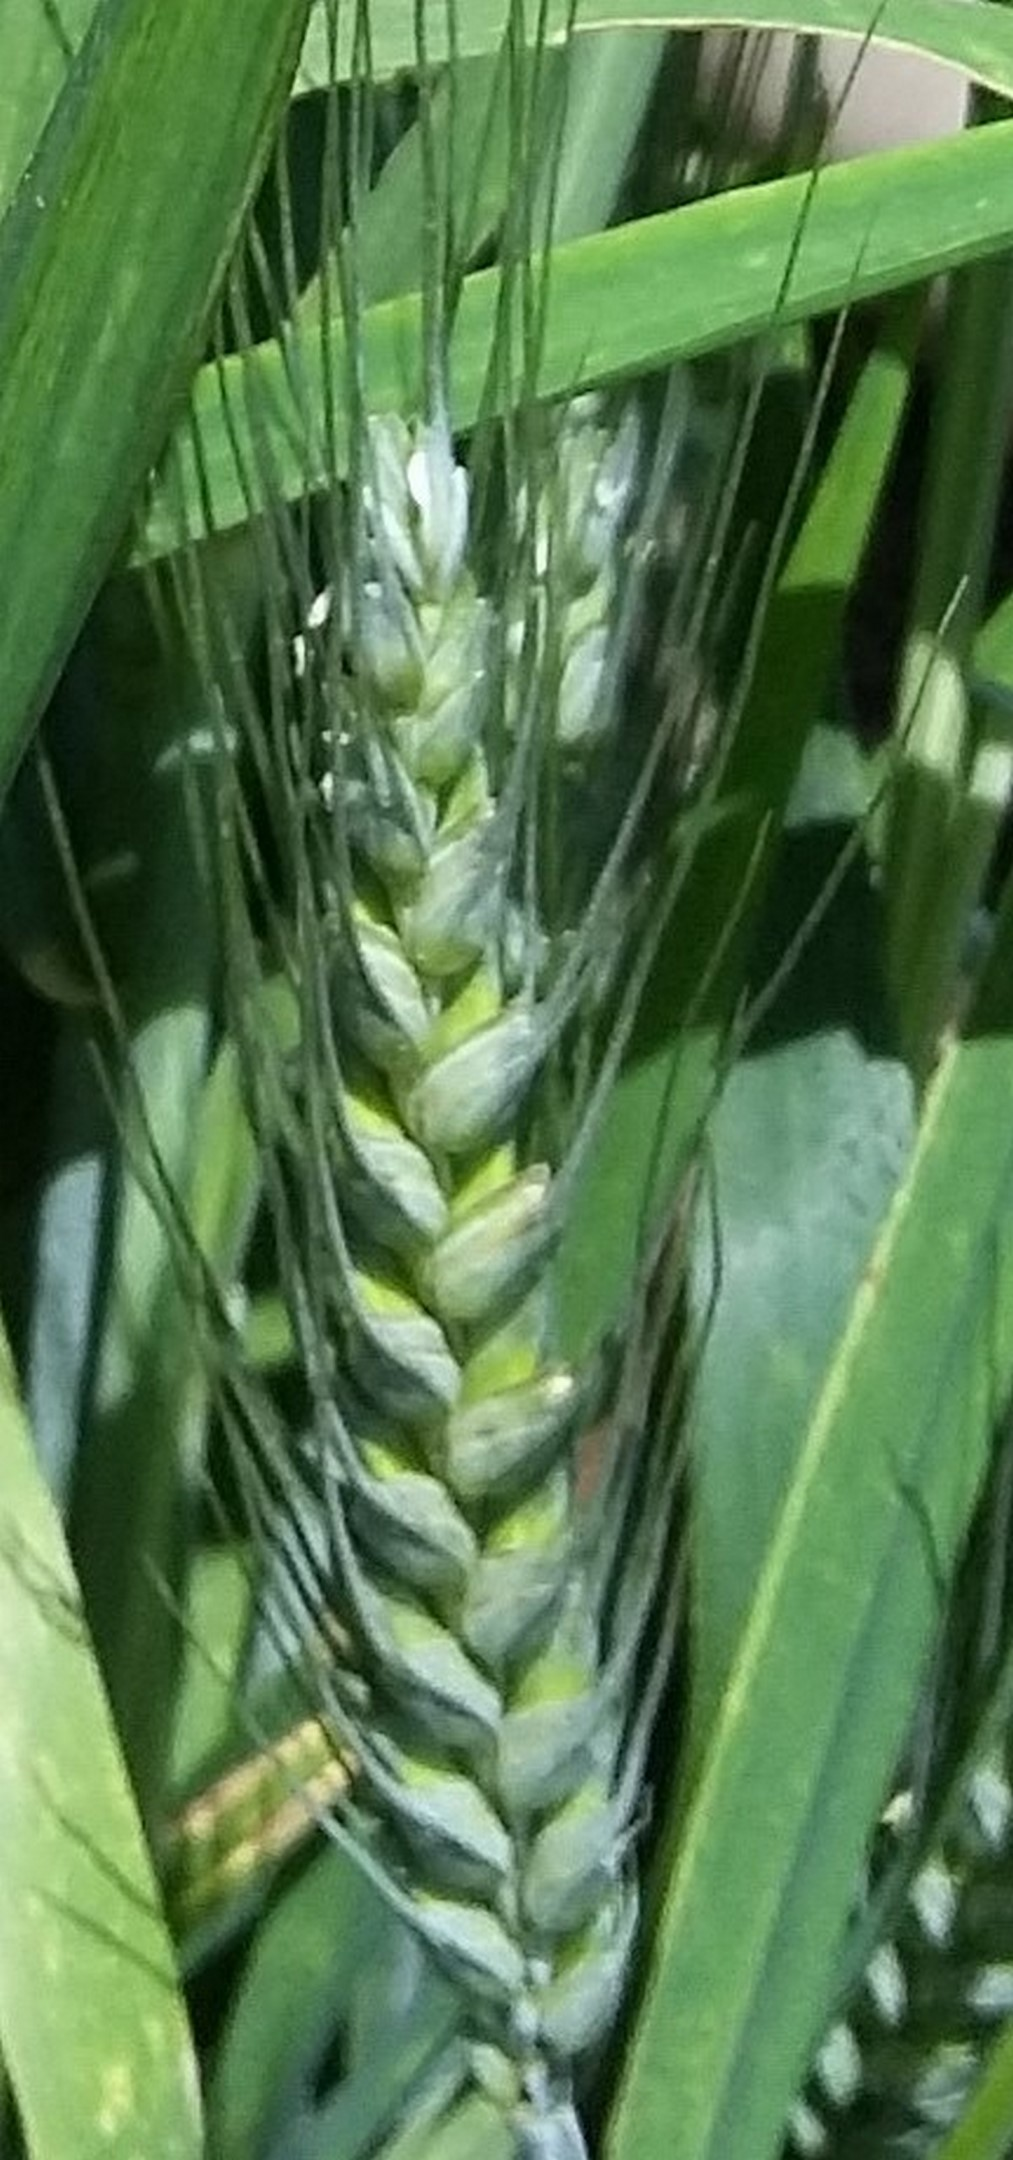Healthy Wheat: (174, 343, 700, 2036)
